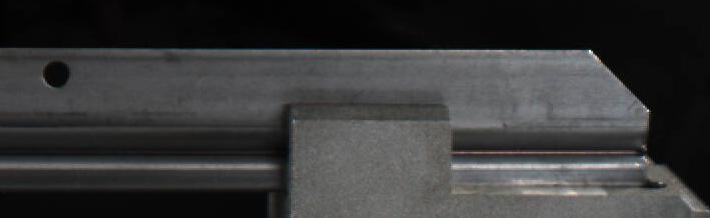cut: (457, 43, 664, 192)
holes: (41, 58, 71, 88)
